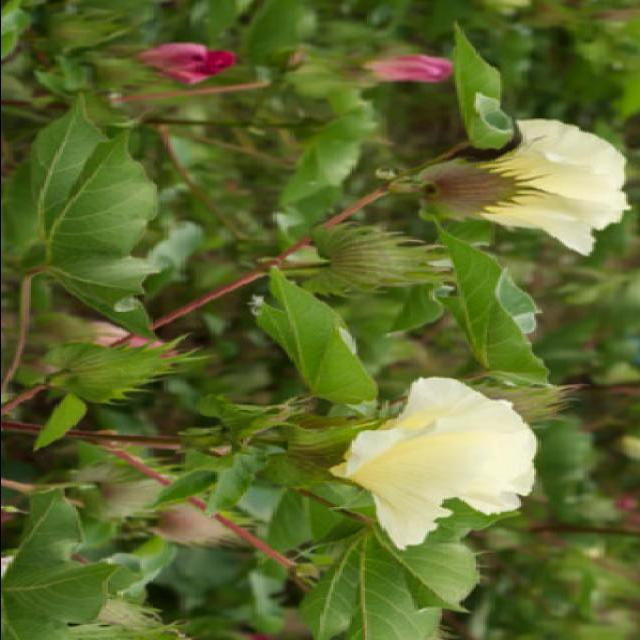Cotton Blossom: (294, 382, 538, 544), (414, 128, 634, 264), (123, 41, 247, 88), (350, 49, 452, 92)
Cotton Bud: (46, 325, 210, 413), (302, 218, 452, 312)
